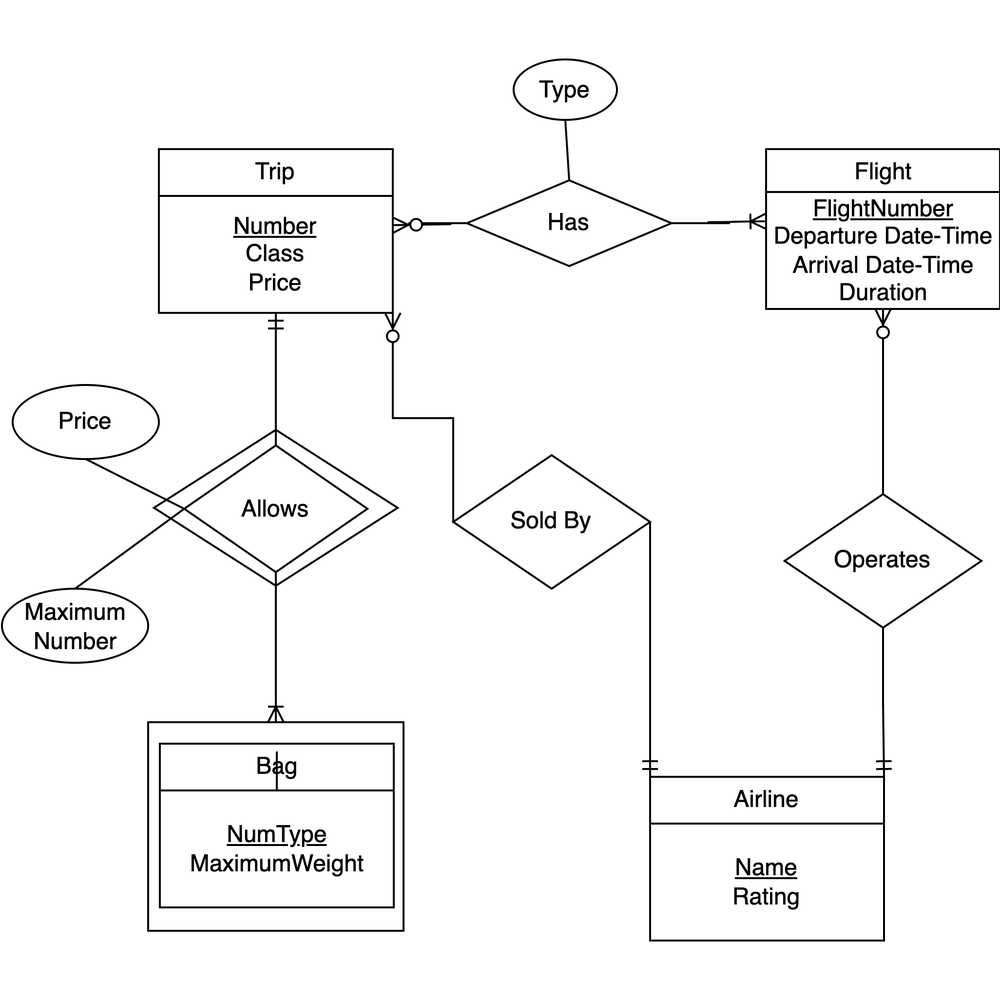attribute: (488, 36, 649, 127), (10, 379, 169, 465), (4, 578, 153, 662)
entity: (134, 713, 413, 941), (148, 145, 395, 321), (758, 137, 1000, 316), (643, 773, 894, 945)
relationship: (152, 428, 406, 596), (774, 493, 994, 625), (451, 454, 651, 589), (453, 173, 679, 274)
